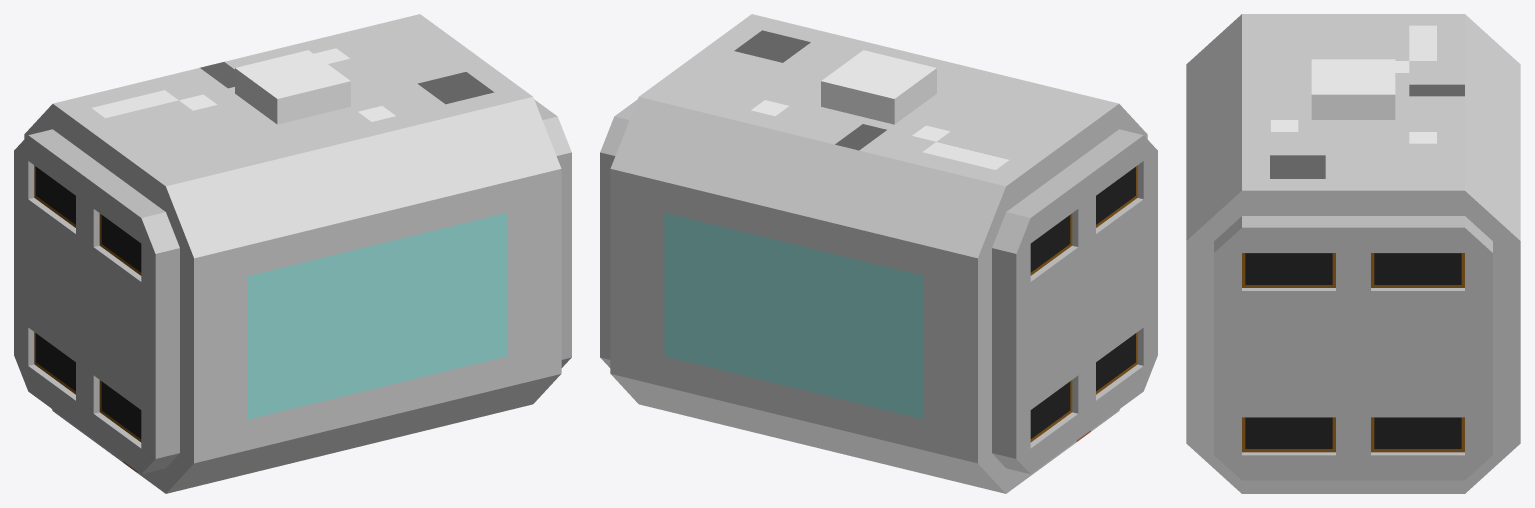
File: MainMap1.fbx
3 renders of one model, left to right at view 1: azimuth 30°, elevation 25°; view 2: azimuth 150°, elevation 25°; view 3: azimuth 270°, elevation 25°, orthographic.
Parts seen in each view (by area): view 1: CoverGlass, L_Gate, Window003, Escape_Gate, Gla, ScreenMain002, R_Gate, Front_part016, Front_part076, Front_part106, Front_part046, Front_part031 (+58 smaller); view 2: CoverGlass, L_Gate, Window (×2), Escape_Gate, Gla, ScreenMain1, R_Gate, Back_part001, Back_part091, Back_part031, Back_part061, Back_part076 (+57 smaller); view 3: R_Gate, CoverGlass, Gla001, Escape_Gate, Window001, Top_part045, Top_part060, Top_part075, Top_part090, Top_part015, Top_part030, Top_part105 (+41 smaller).
Boxes of the visible parts, x1,y1,x2,y2 form: CoverGlass: (25, 97, 561, 493); L_Gate: (14, 129, 179, 474); Window003: (248, 212, 507, 419); Escape_Gate: (235, 50, 350, 124); Gla: (36, 167, 141, 438); ScreenMain002: (243, 206, 512, 425); R_Gate: (534, 99, 571, 367); Front_part016: (180, 274, 218, 309); Front_part076: (180, 376, 218, 411); Front_part106: (180, 427, 218, 463); Front_part046: (180, 325, 218, 360); Front_part031: (180, 299, 218, 335); CoverGlass: (610, 97, 1146, 493); L_Gate: (992, 129, 1157, 474); Window (×2): (664, 165, 1137, 442); Escape_Gate: (821, 50, 936, 124); Gla: (1030, 167, 1135, 438); ScreenMain1: (659, 206, 928, 425); R_Gate: (600, 99, 637, 367); Back_part001: (953, 427, 991, 463); Back_part091: (953, 274, 991, 309); Back_part031: (953, 376, 991, 411); Back_part061: (953, 325, 991, 360); Back_part076: (953, 299, 991, 335); R_Gate: (1214, 216, 1492, 480); CoverGlass: (1186, 14, 1520, 493); Gla001: (1245, 253, 1461, 448); Escape_Gate: (1311, 59, 1395, 119); Window001: (1242, 253, 1464, 452); Top_part045: (1381, 179, 1409, 215); Top_part060: (1353, 179, 1381, 215); Top_part075: (1325, 179, 1353, 215); Top_part090: (1297, 179, 1325, 215); Top_part015: (1437, 179, 1464, 215); Top_part030: (1409, 179, 1436, 215); Top_part105: (1270, 179, 1297, 215).
Size of the model in its own units: 85 by 65 by 60.
